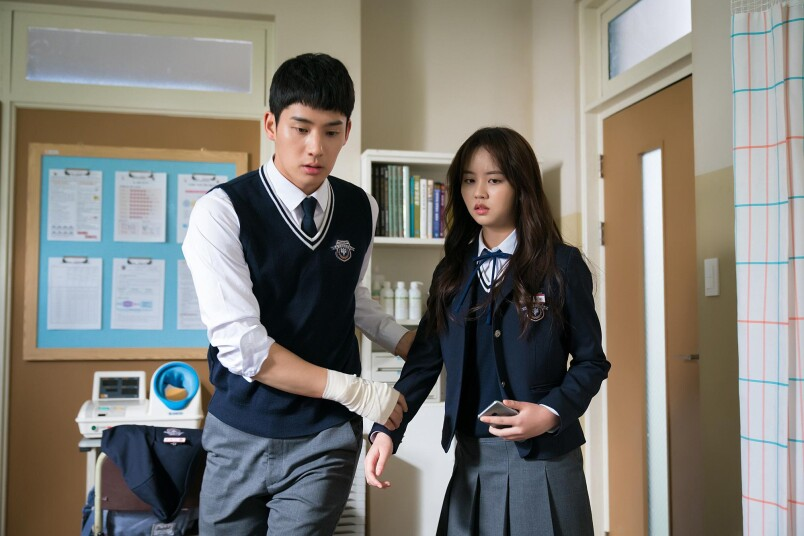people: (188, 56, 412, 536), (367, 127, 613, 536)
